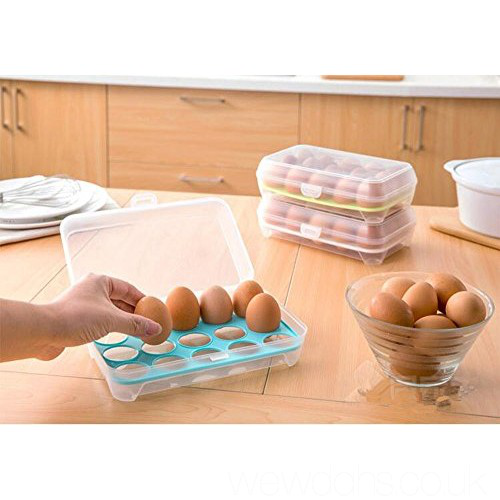egg: (259, 149, 417, 256), (364, 270, 484, 387), (125, 280, 283, 346)
